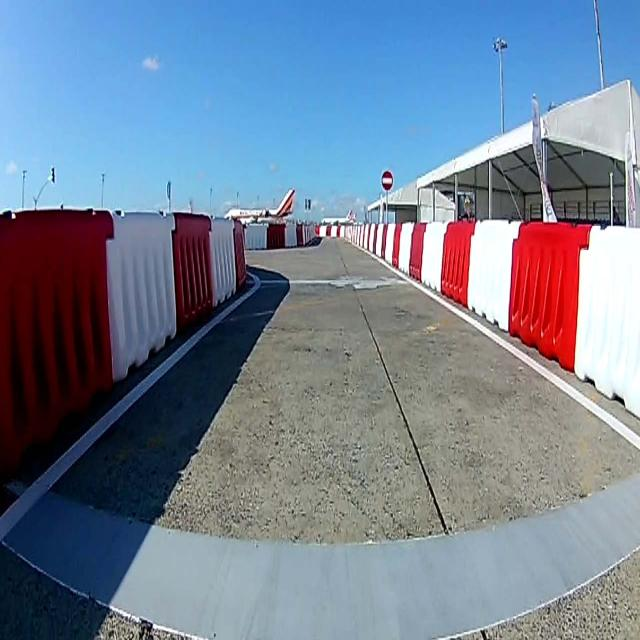girisyok: (380, 170, 393, 192)
